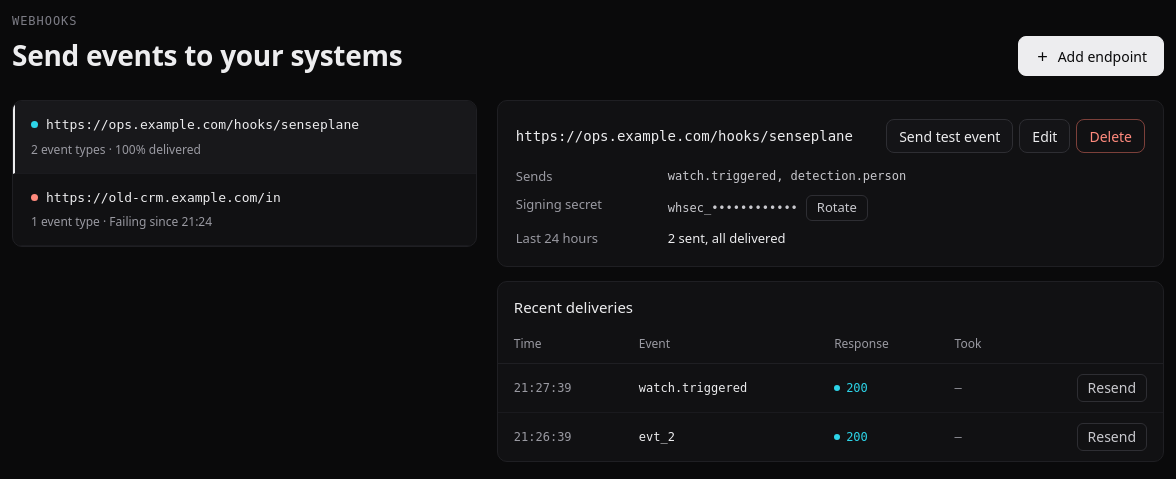
Test: WebhooksPage › lists endpoints with health and shows the selected one's deliveries
Expected: the text "2 event types · 100% delivered" is shown, [31,140,201,158]
Expected: the text "1 event type · Failing since 21:24" is shown, [31,213,212,231]
Click the button "old-crm". click: (163, 197)
box: [13,174,476,246]
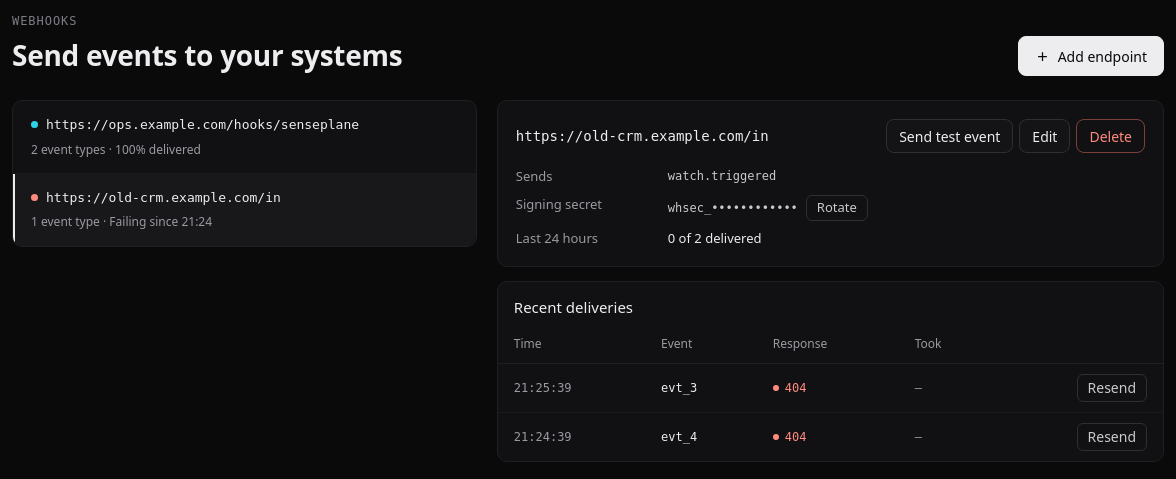
Result: the text "0 of 2 delivered" is shown at [668,228,762,246]
